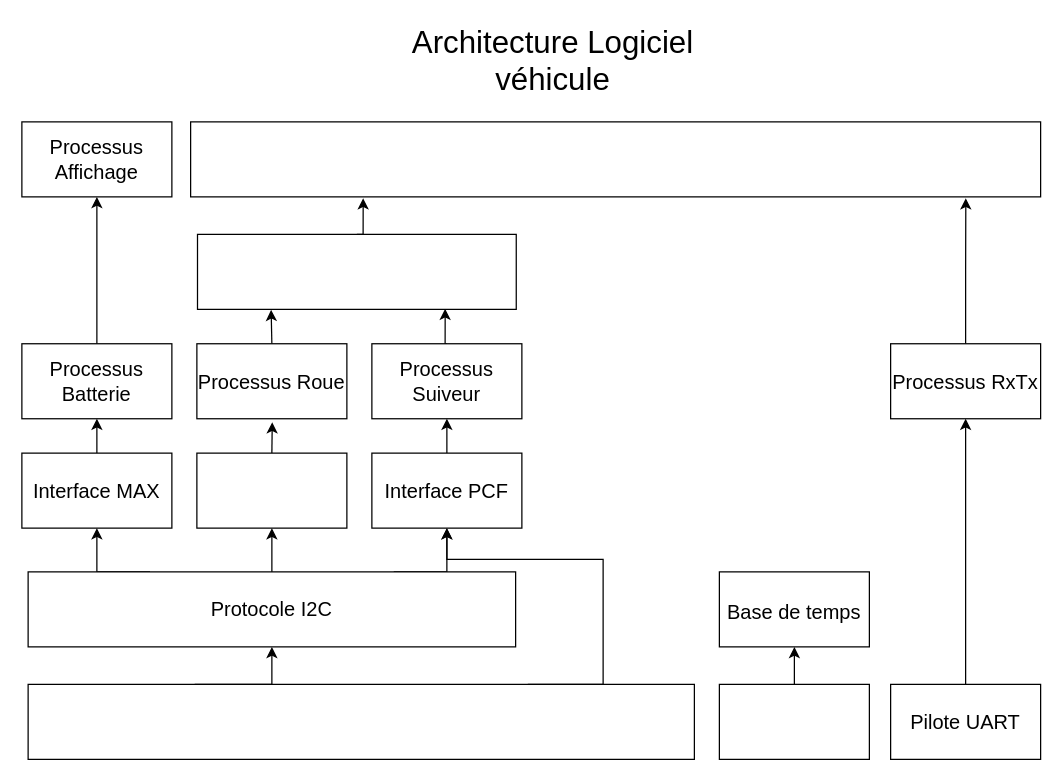
The diagram is 1063 pixels wide and 781 high, and some of its shapes have lost their labels. Here are the shapes that lost their labels. From the top down, the centre of each, then its label:
[615,159]: Processus Véhicule
[356,271]: Processus Mouvement
[271,490]: Interface DAC
[360,721]: Pilote IO
[793,721]: Timer
